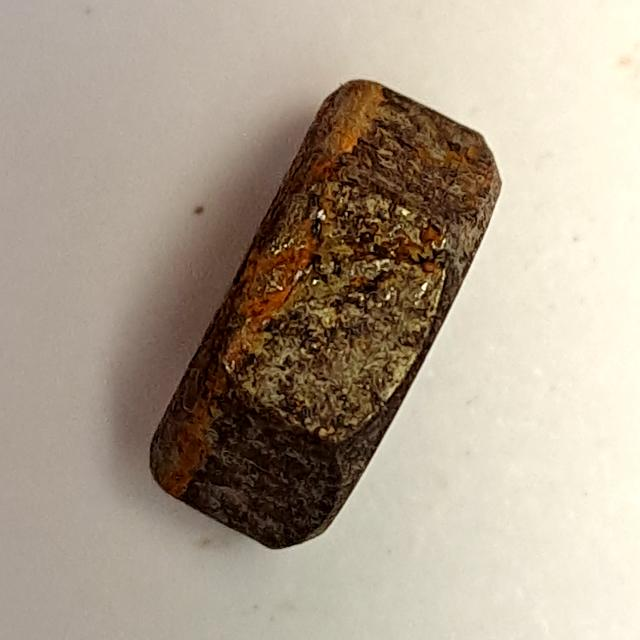Rust: (117, 59, 513, 567)
